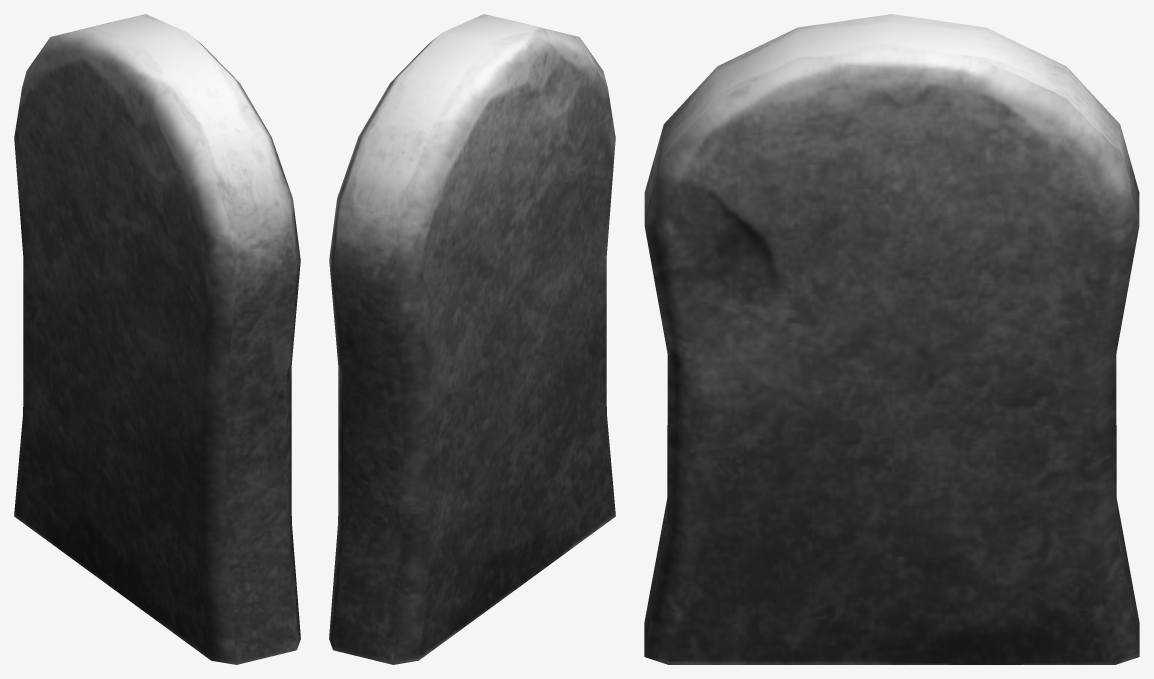
The model's file is GraveStone_1.fbx.
3 renders of one model, left to right at view 1: azimuth 30°, elevation 25°; view 2: azimuth 150°, elevation 25°; view 3: azimuth 270°, elevation 25°, orthographic. The views are drawn at different scales.
Parts seen in each view (by area): view 1: polySurface14; view 2: polySurface14; view 3: polySurface14.
Boxes of the visible parts, left/top/right/bottom form: polySurface14: left=14, top=14, right=300, bottom=664; polySurface14: left=329, top=14, right=615, bottom=664; polySurface14: left=644, top=14, right=1139, bottom=664.
Bounding box in the file's own units: 15.84 × 90.77 × 66.87.
